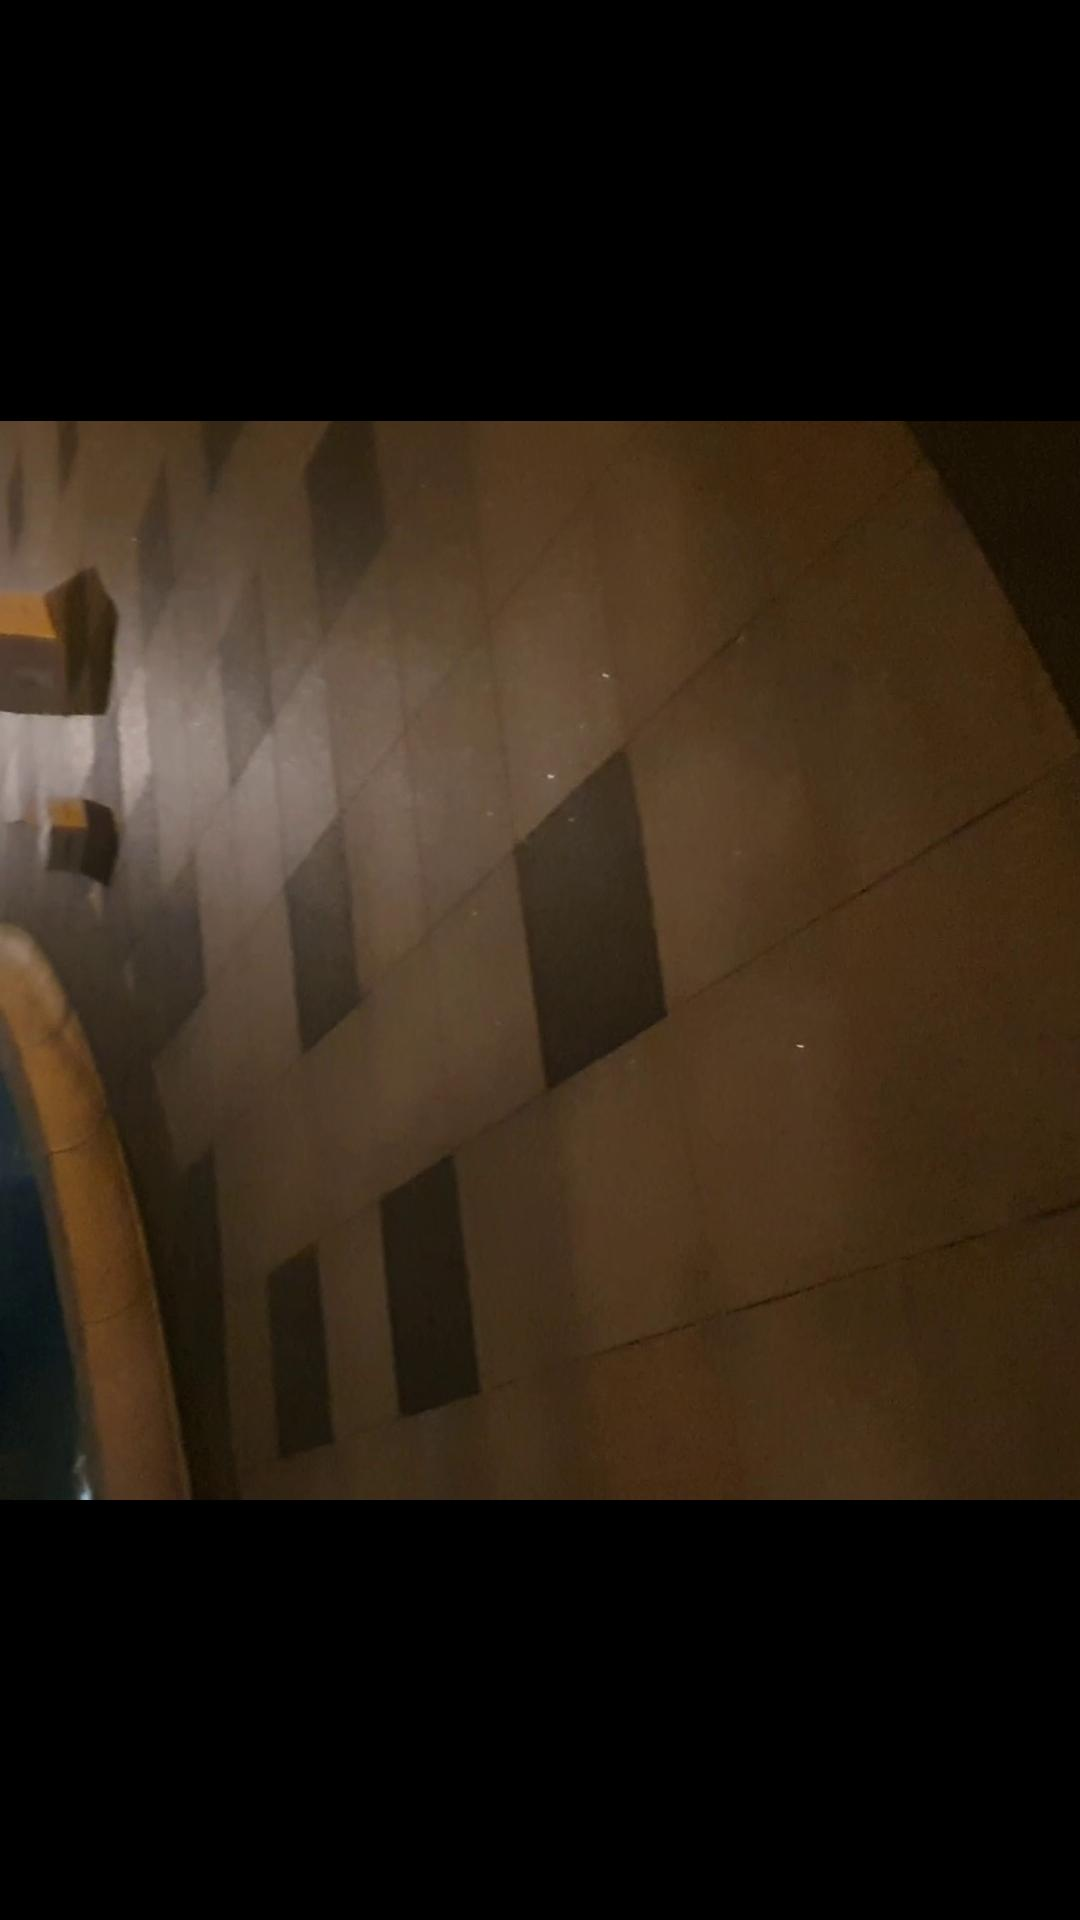Box: (0, 588, 84, 724), (25, 795, 109, 889)
